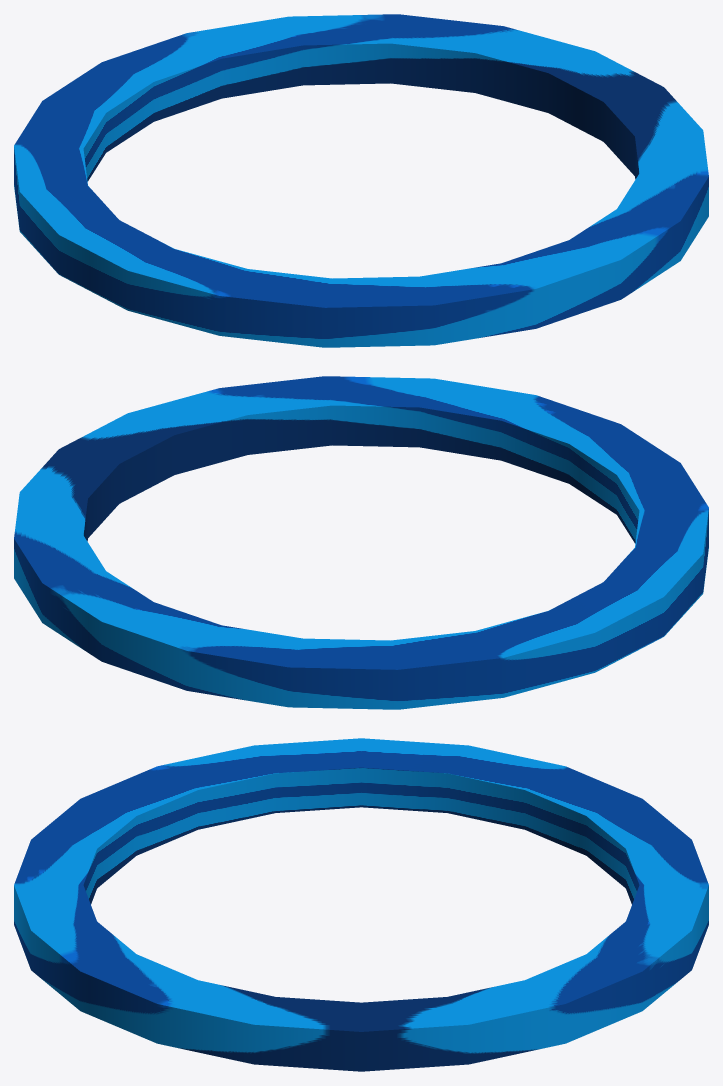
File: elevatorwall.fbx
3 renders of one model, top to bottom at view 1: azimuth 30°, elevation 25°; view 2: azimuth 150°, elevation 25°; view 3: azimuth 270°, elevation 25°, orthographic.
Visible parts, largest first — view 1: pPipe1; view 2: pPipe1; view 3: pPipe1.
Boxes of the visible parts, <box> form: pPipe1: <box>14,14,708,347</box>; pPipe1: <box>14,376,708,709</box>; pPipe1: <box>14,738,708,1071</box>.
Bounding box in the file's own units: 2.85 × 0.18 × 2.85.
Materials: 1 (1 with a texture image).
